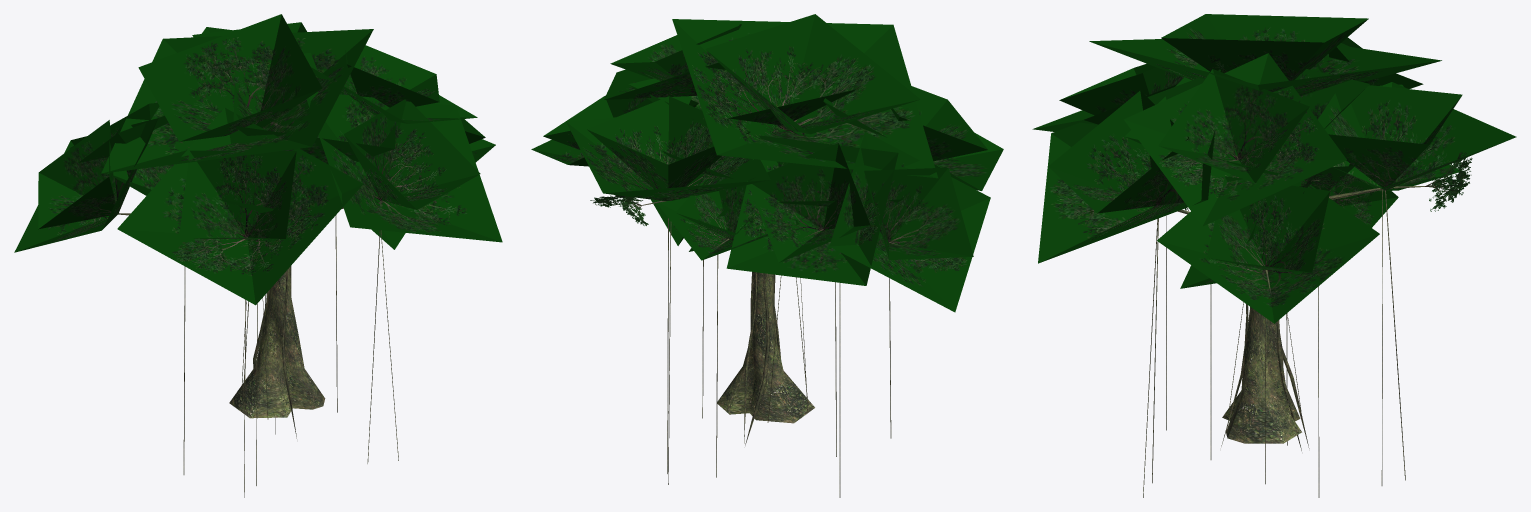
The model's file is decd_treecanopy_a2_l1.fbx.
The picture shows the model from 3 angles, left to right: view 1: azimuth 30°, elevation 25°; view 2: azimuth 150°, elevation 25°; view 3: azimuth 270°, elevation 25°; orthographic projection. The views are drawn at different scales.
Visible parts, largest first — view 1: mesh_node; view 2: mesh_node; view 3: mesh_node.
Part boxes in pixels (bbox=[...]): mesh_node: bbox=[14, 14, 502, 497]; mesh_node: bbox=[531, 14, 1003, 497]; mesh_node: bbox=[1032, 14, 1516, 497].
Size of the model in its own units: 36.62 by 32.93 by 31.14.
